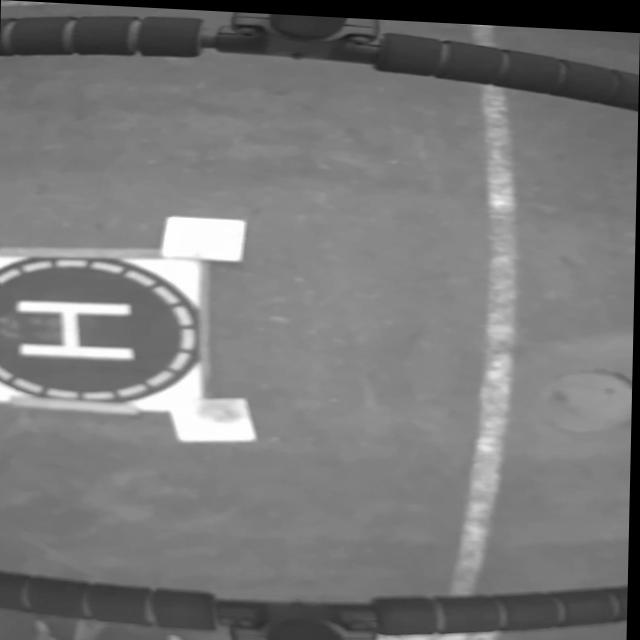Helipad: (18, 299, 137, 360)
